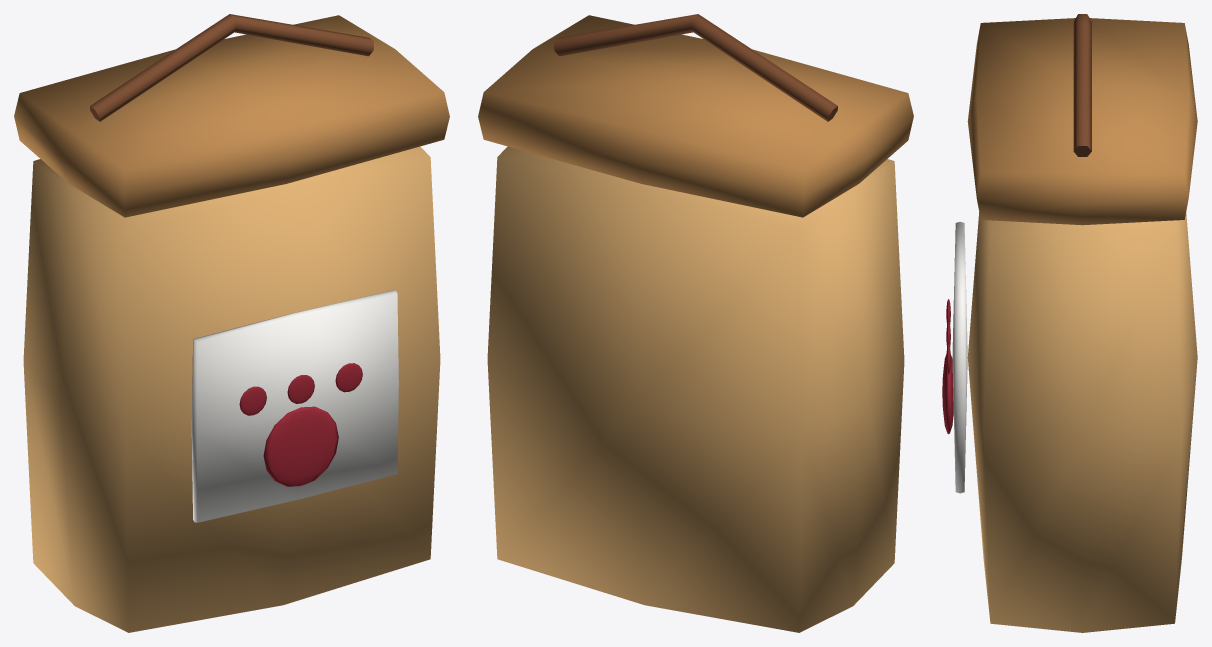
Rendered from pet_food_sack.glb.
The picture shows the model from 3 angles, left to right: view 1: azimuth 30°, elevation 25°; view 2: azimuth 150°, elevation 25°; view 3: azimuth 270°, elevation 25°; orthographic projection. The views are drawn at different scales.
Parts seen in each view (by area): view 1: root; view 2: root; view 3: root.
Boxes of the visible parts, left/top/right/bottom form: root: left=14, top=14, right=449, bottom=632; root: left=478, top=14, right=913, bottom=632; root: left=942, top=14, right=1197, bottom=632.
Size of the model in its own units: 0.5 by 0.7904 by 0.3333.
